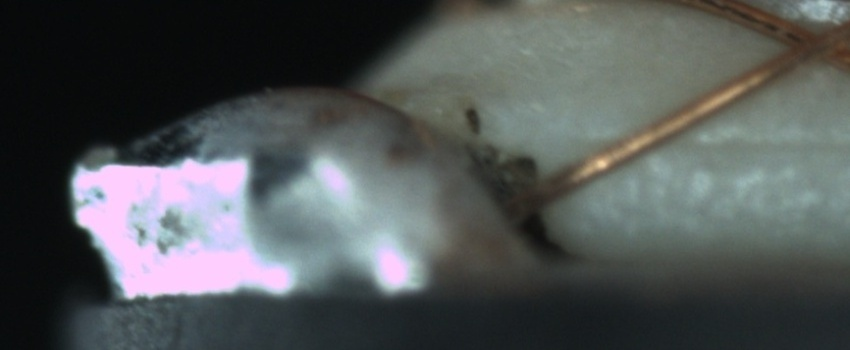CL: (765, 11, 843, 75)
DL: (637, 107, 848, 180)
